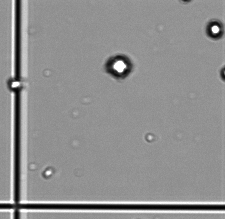Living Cell: (104, 52, 134, 81), (205, 19, 223, 39), (7, 76, 24, 91)
